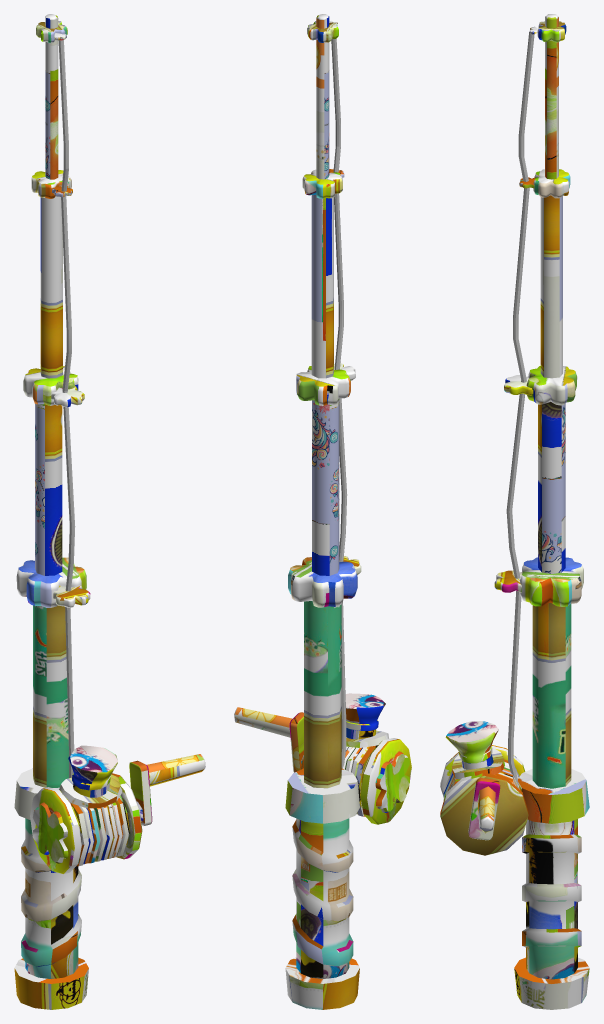
3 renders of one model, left to right at view 1: azimuth 30°, elevation 25°; view 2: azimuth 150°, elevation 25°; view 3: azimuth 270°, elevation 25°, orthographic.
Visible parts, largest first — view 1: yugan4, zhuan; view 2: yugan4, zhuan; view 3: yugan4, zhuan.
Part boxes in pixels (box(x1,y1,x2,y2)): yugan4: box(14, 14, 90, 1009); zhuan: box(30, 745, 205, 873); yugan4: box(285, 14, 361, 1009); zhuan: box(234, 693, 411, 824); yugan4: box(494, 14, 589, 1009); zhuan: box(440, 721, 528, 855).
Size of the model in its own units: 33.92 by 201 by 27.86.
